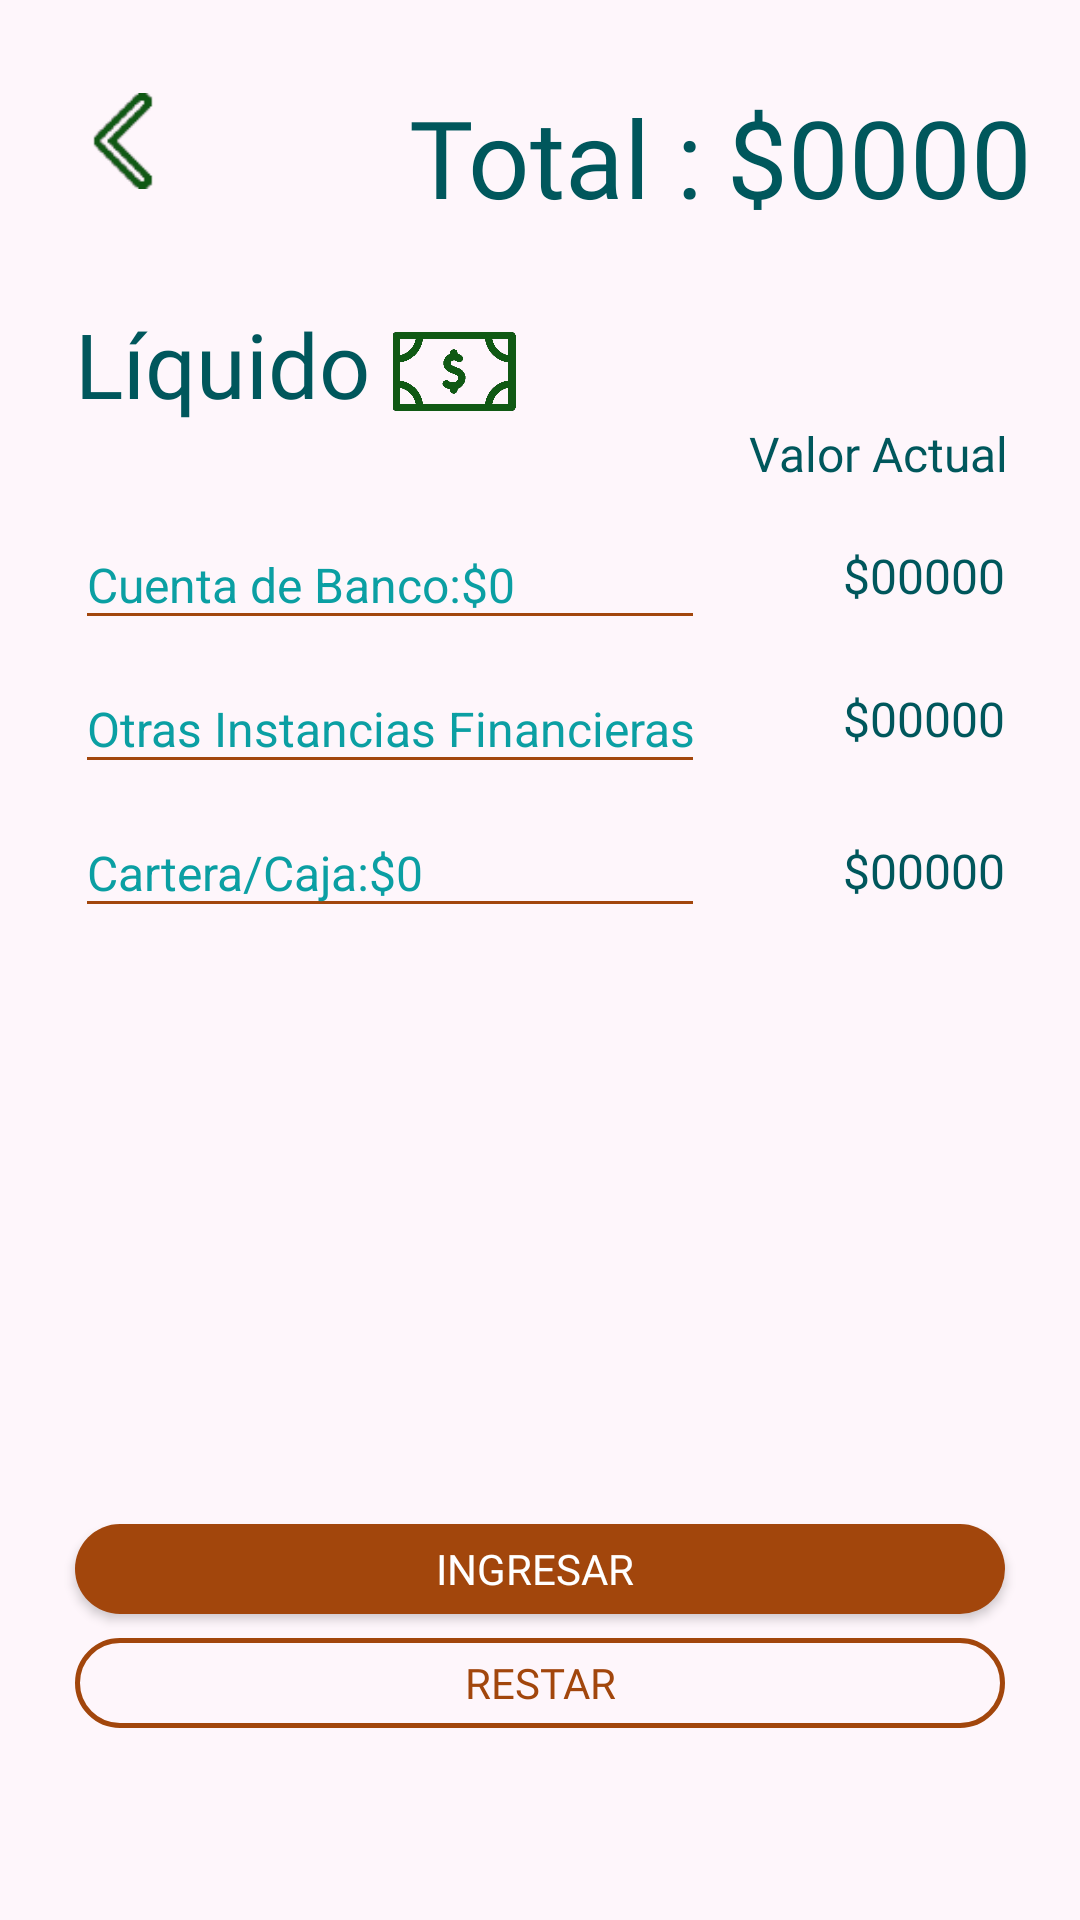

Screen size 1080 x 1920. Icon name, then its center in pixels as (x=x, y=y):
flecha: (x=123, y=141)
